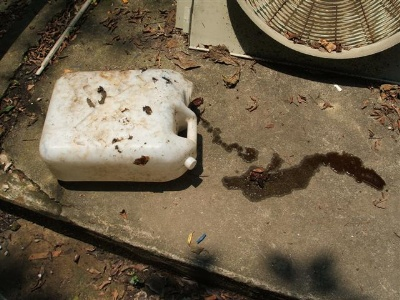bucket: (38, 69, 198, 184)
